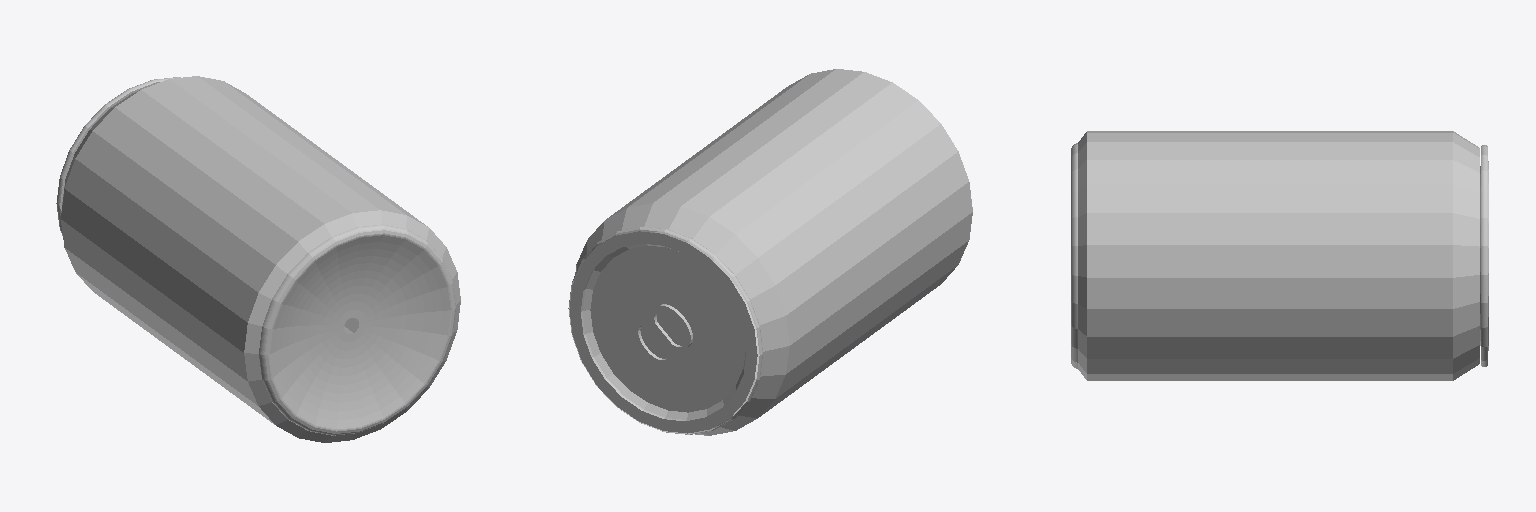
File: model_scale.obj
The picture shows the model from 3 angles: view 1: azimuth 30°, elevation 25°; view 2: azimuth 150°, elevation 25°; view 3: azimuth 270°, elevation 25°; orthographic projection.
Visible parts, largest first — view 1: mesh2_mesh2-geometry, mesh4_mesh4-geometry; view 2: mesh2_mesh2-geometry, mesh3_mesh3-geometry, mesh1_mesh1-geometry, mesh4_mesh4-geometry; view 3: mesh2_mesh2-geometry, mesh4_mesh4-geometry.
Part boxes in pixels (x1,y1,x2,y2): mesh2_mesh2-geometry: (61, 76, 460, 442); mesh4_mesh4-geometry: (56, 77, 180, 235); mesh2_mesh2-geometry: (575, 69, 972, 435); mesh3_mesh3-geometry: (569, 231, 757, 433); mesh1_mesh1-geometry: (634, 304, 692, 363); mesh4_mesh4-geometry: (568, 227, 762, 434); mesh2_mesh2-geometry: (1071, 131, 1479, 380); mesh4_mesh4-geometry: (1481, 145, 1487, 366).
Bounding box in the file's own units: 0.0746 × 0.0746 × 0.1244.